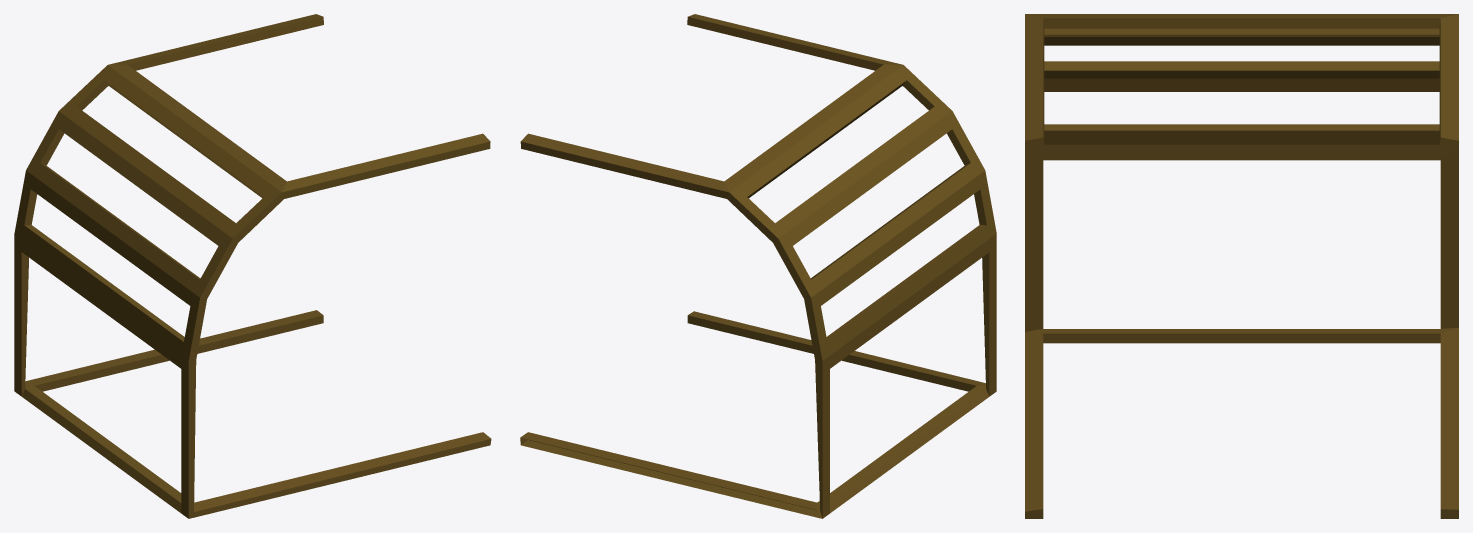
The model's file is frame_side_small.glb.
3 renders of one model, left to right at view 1: azimuth 30°, elevation 25°; view 2: azimuth 150°, elevation 25°; view 3: azimuth 270°, elevation 25°, orthographic. The views are drawn at different scales.
Parts seen in each view (by area): view 1: frame_side_small; view 2: frame_side_small; view 3: frame_side_small.
Boxes of the visible parts, <box> form: frame_side_small: <box>14,14,491,518</box>; frame_side_small: <box>520,14,996,518</box>; frame_side_small: <box>1025,14,1458,518</box>.
Bounding box in the file's own units: 2.01 × 1.94 × 2.
